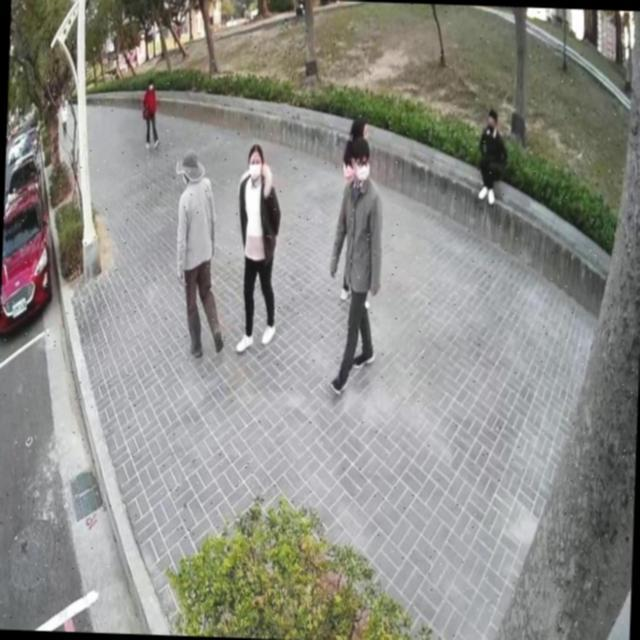person: (324, 130, 390, 400), (165, 140, 238, 366), (230, 134, 286, 356), (474, 103, 510, 204), (140, 76, 163, 152), (60, 99, 70, 138)
